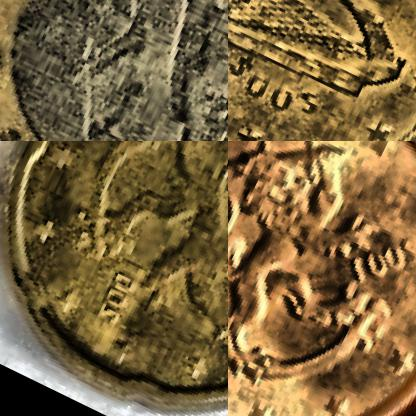coin: (0, 141, 227, 415), (228, 141, 415, 415), (0, 0, 227, 140), (228, 0, 415, 140)
